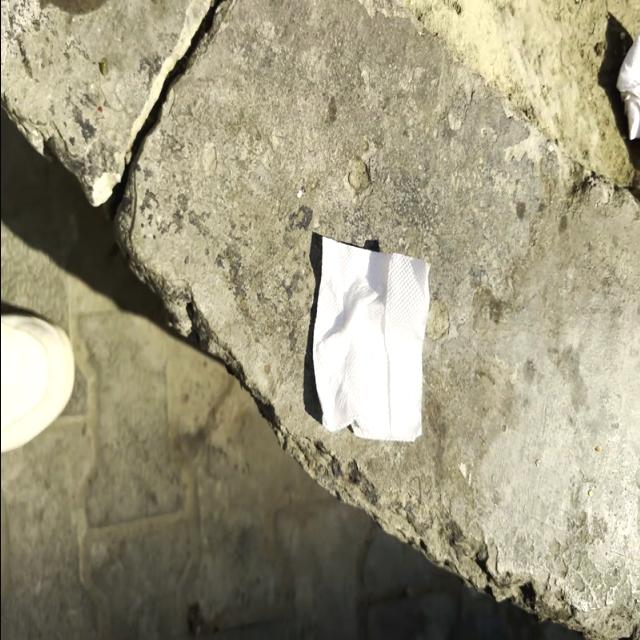tissue: (310, 226, 430, 448)
